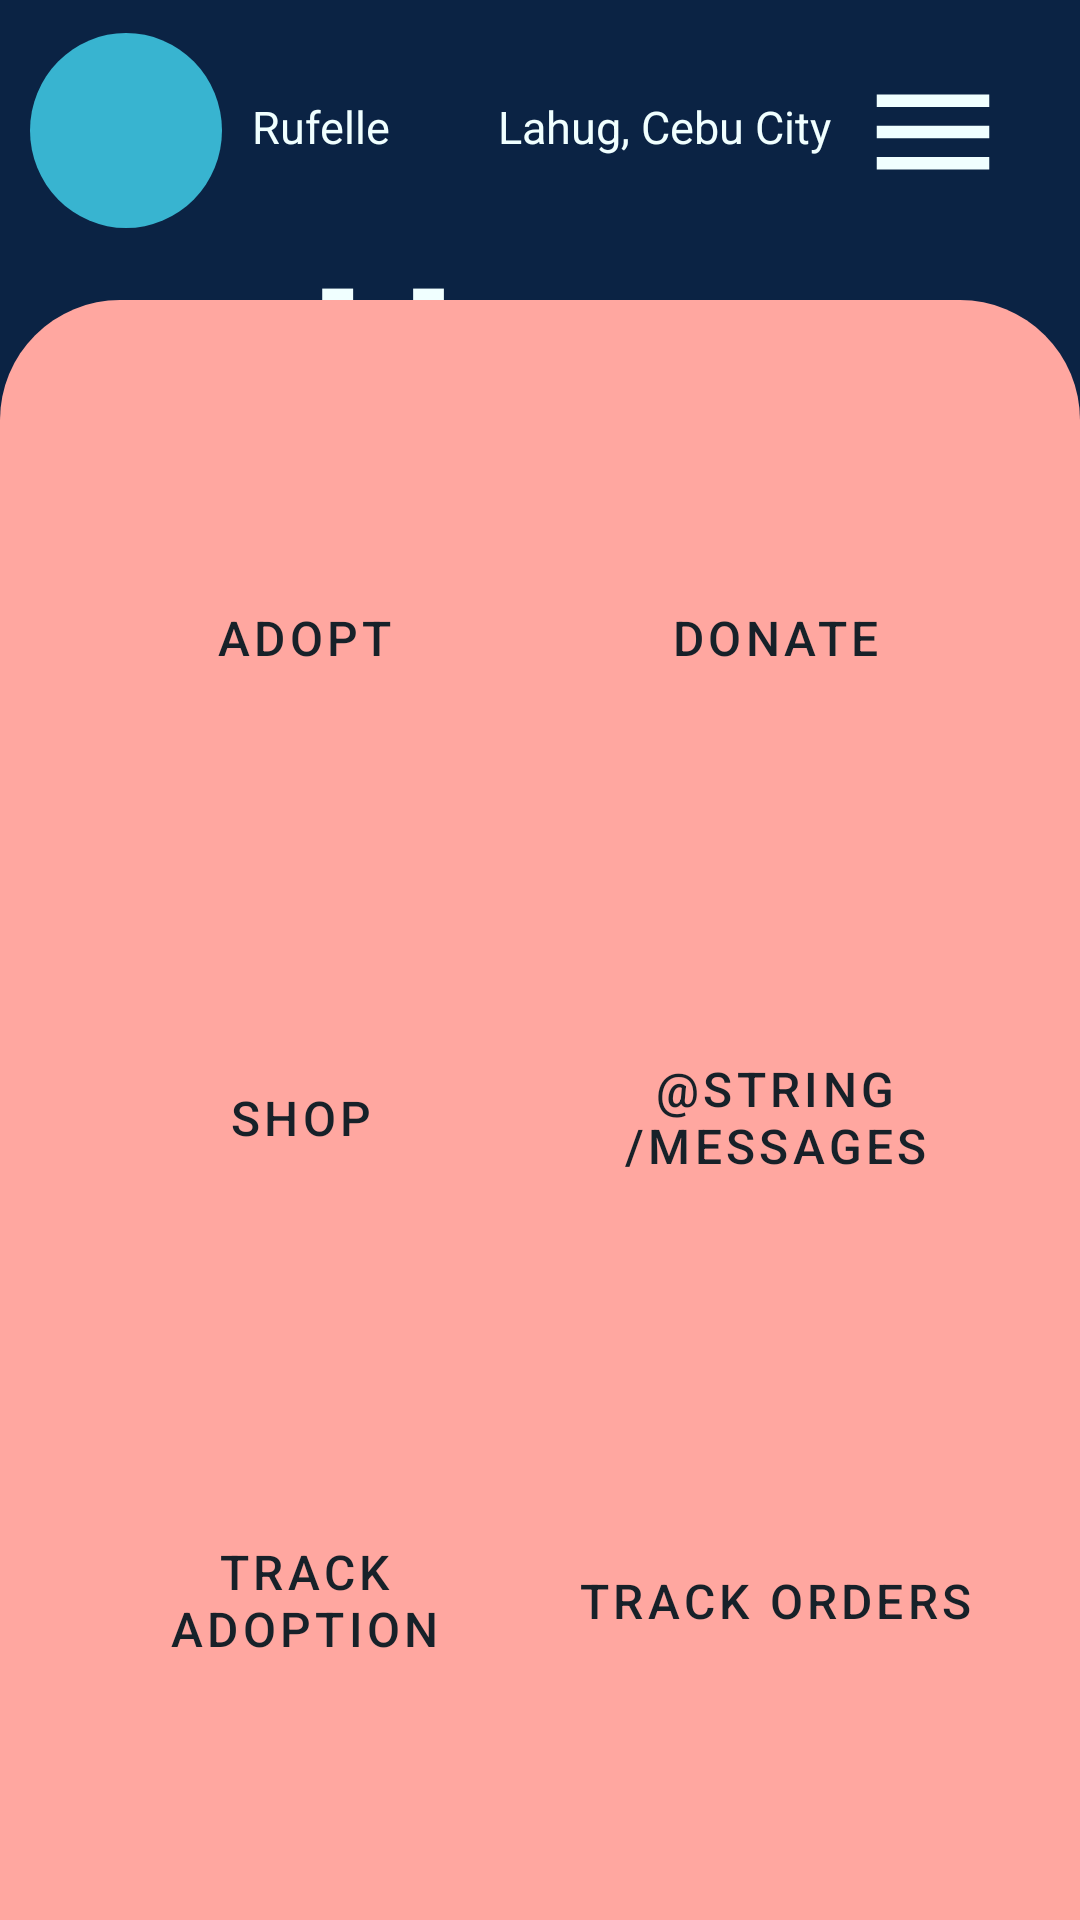

Named icons in this screenshot (1080×1920) and their bounding boxes, (x1, y1, x2, y2):
menu: (876, 94, 990, 170)
